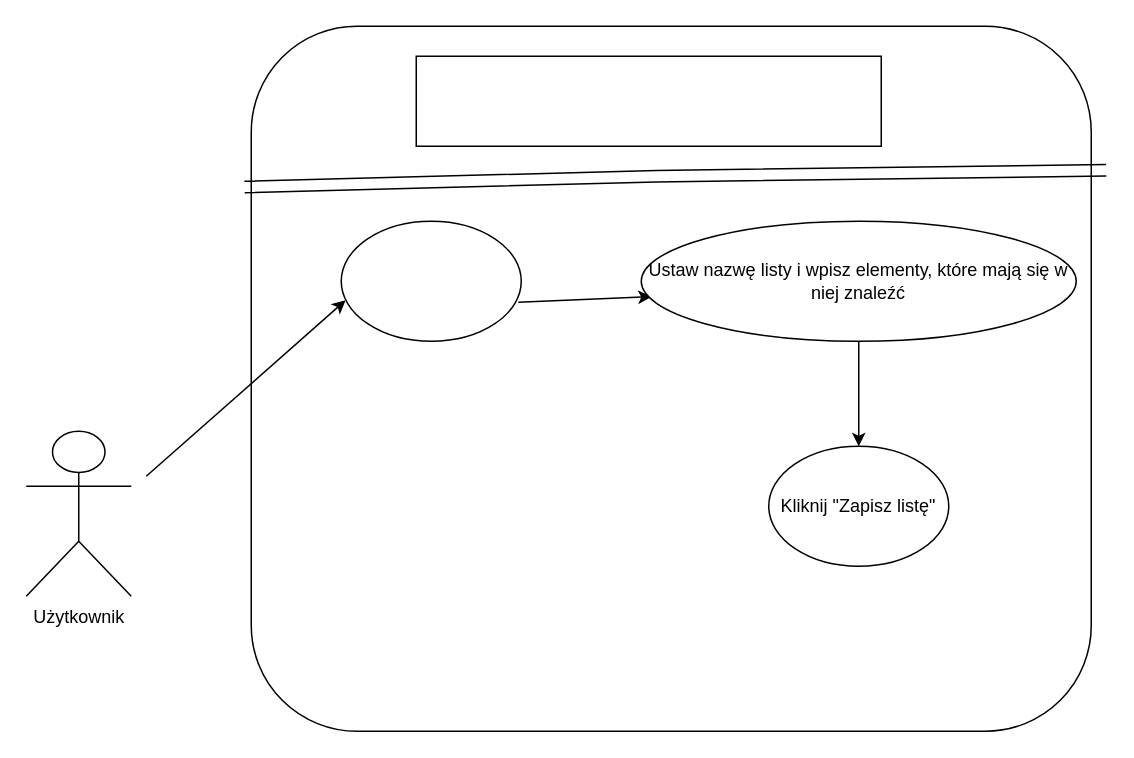
The diagram is 1134 pixels wide and 758 high, and some of its shapes have lost their labels. Each missing label, with the centre of its shape:
Kliknij "Stwórz listę|: point 430,280
Tworzenie listy: point 648,100
